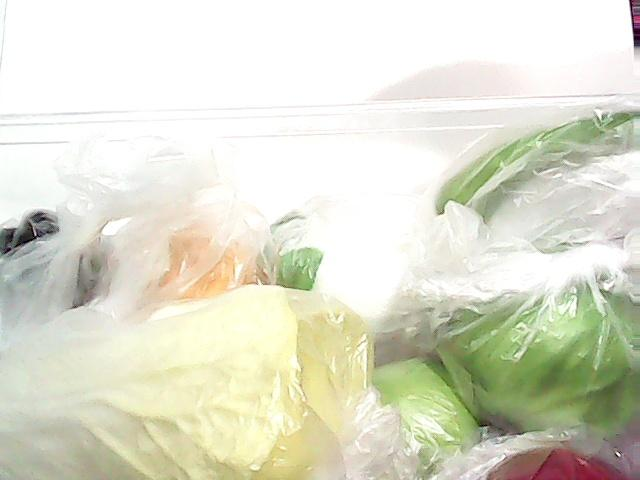apple: (367, 359, 481, 453), (479, 448, 629, 480)
cabbage: (438, 249, 640, 419)
grape: (0, 192, 111, 284)
lemon: (140, 213, 256, 307)
napa cabbage: (0, 284, 360, 480)
pepper: (430, 102, 640, 226)
radish: (266, 204, 449, 336)
